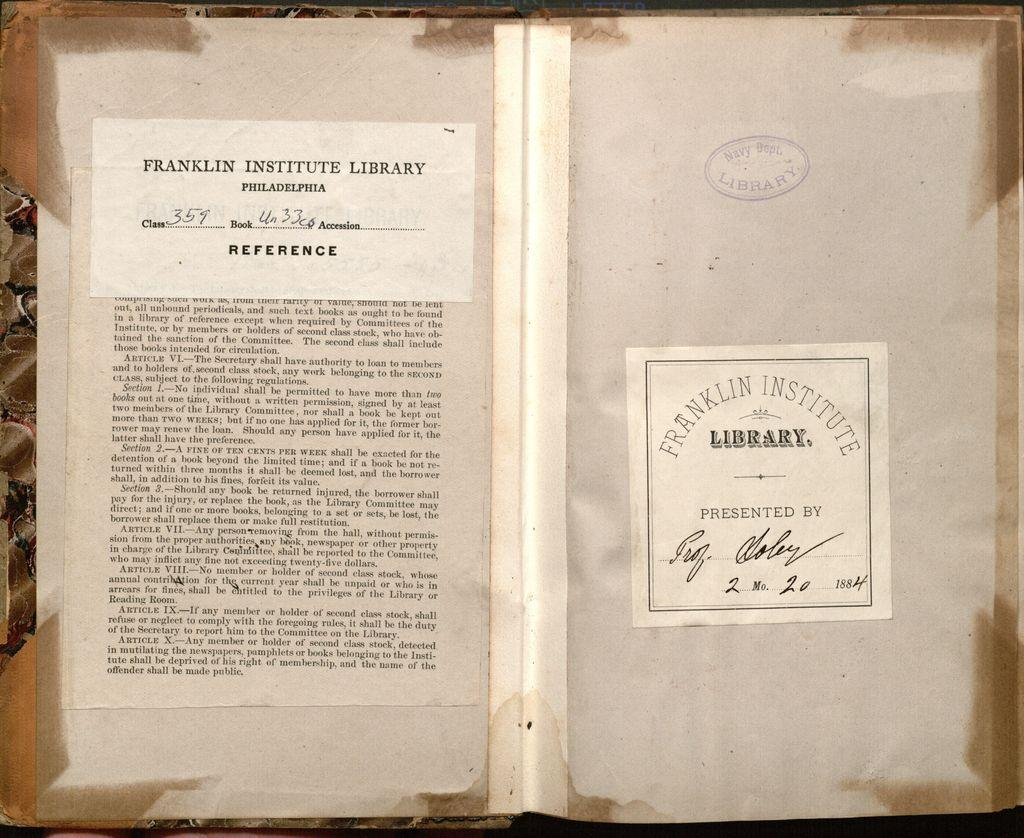book: (56, 70, 516, 764)
